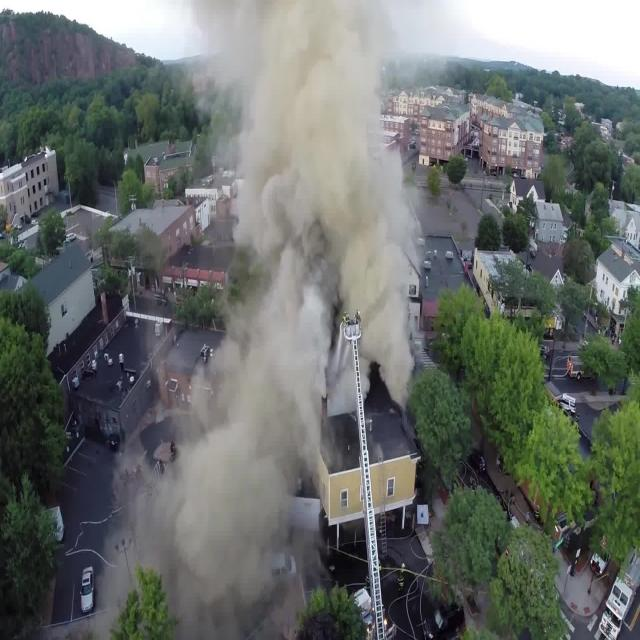Smoke: (96, 4, 426, 640)
